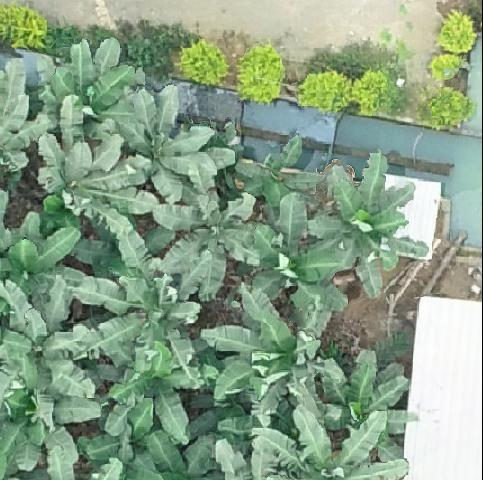Banana-plant: (321, 149, 433, 299), (204, 289, 337, 411), (74, 227, 214, 338), (40, 105, 151, 223), (114, 93, 228, 197), (94, 327, 199, 437), (314, 347, 419, 454), (158, 185, 260, 287), (3, 381, 101, 480), (242, 193, 331, 295), (4, 293, 90, 397), (34, 43, 135, 124), (0, 213, 77, 312)
